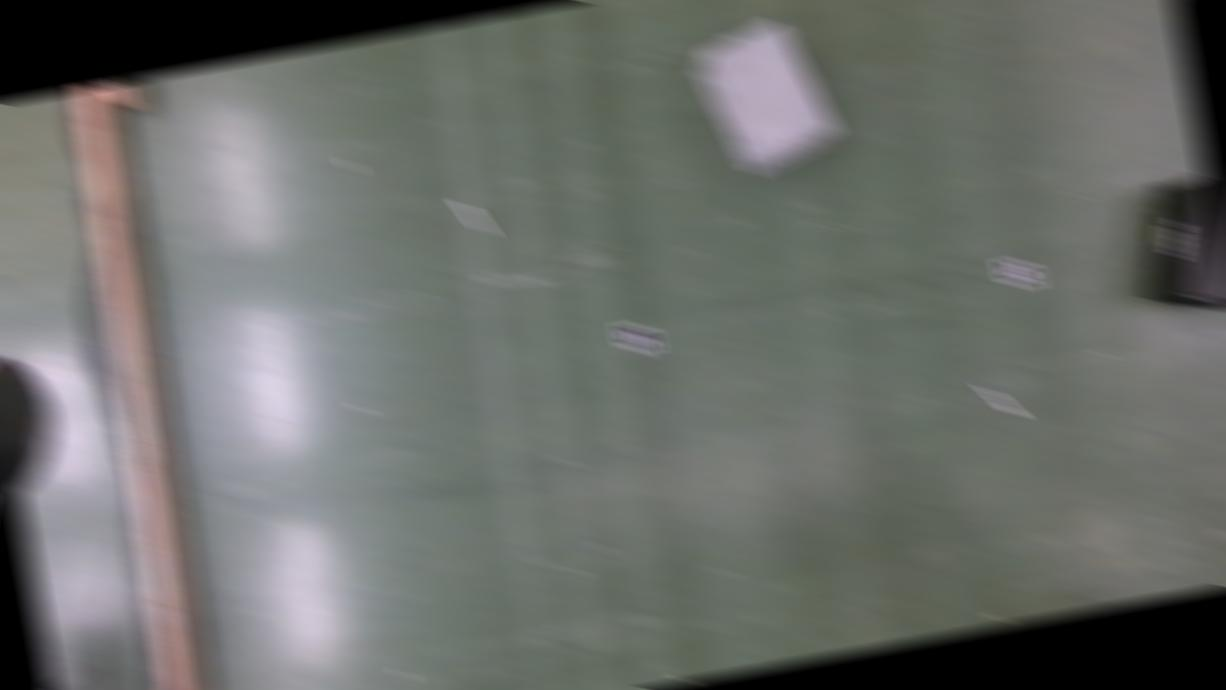probes: (1122, 174, 1226, 326)
rako: (43, 661, 113, 690), (980, 379, 1024, 422), (456, 197, 494, 237)
